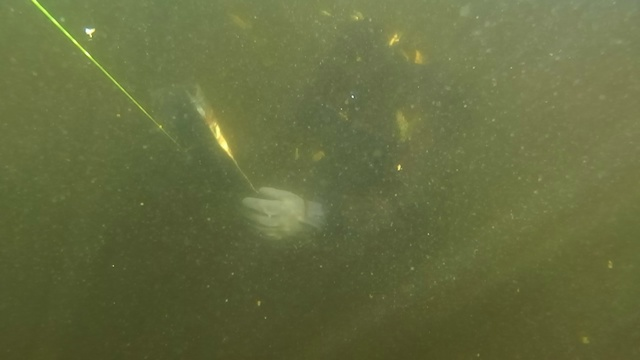Hand: (237, 175, 335, 274)
